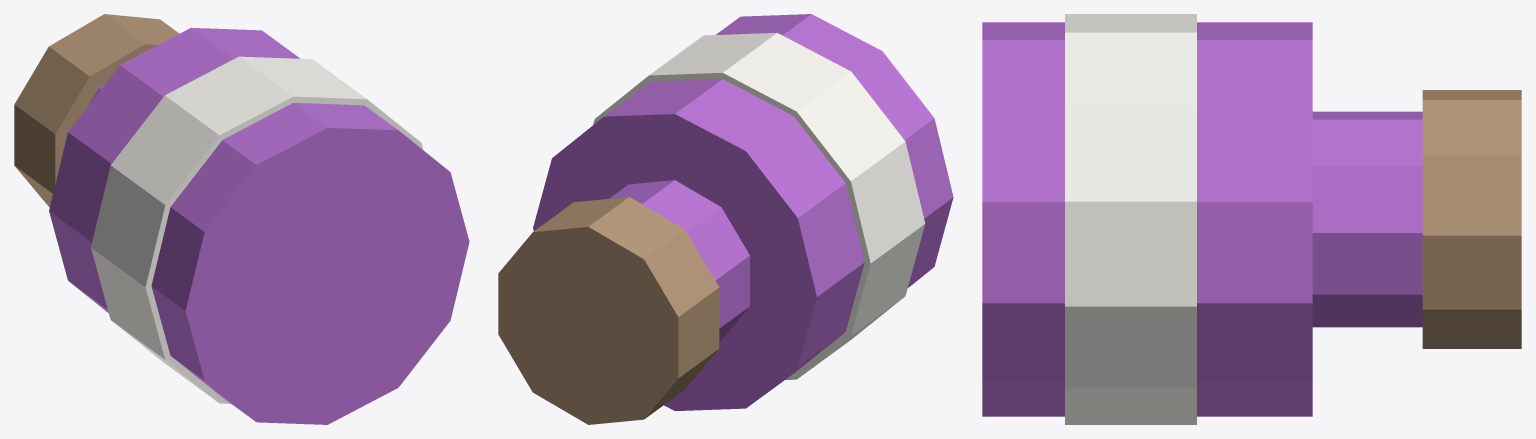
File: purple_dye_held.gltf
3 views of the same model, side by side, from view 1: azimuth 30°, elevation 25°; view 2: azimuth 150°, elevation 25°; view 3: azimuth 270°, elevation 25° (orthographic). The views are drawn at different scales.
Visible parts, largest first — view 1: colors_purple_dye_held; view 2: colors_purple_dye_held; view 3: colors_purple_dye_held.
Part boxes in pixels (x1,y1,x2,y2): colors_purple_dye_held: (14, 14, 469, 424); colors_purple_dye_held: (498, 14, 953, 424); colors_purple_dye_held: (982, 14, 1521, 424).
Bounding box in the file's own units: 0.075 × 0.075 × 0.098.
